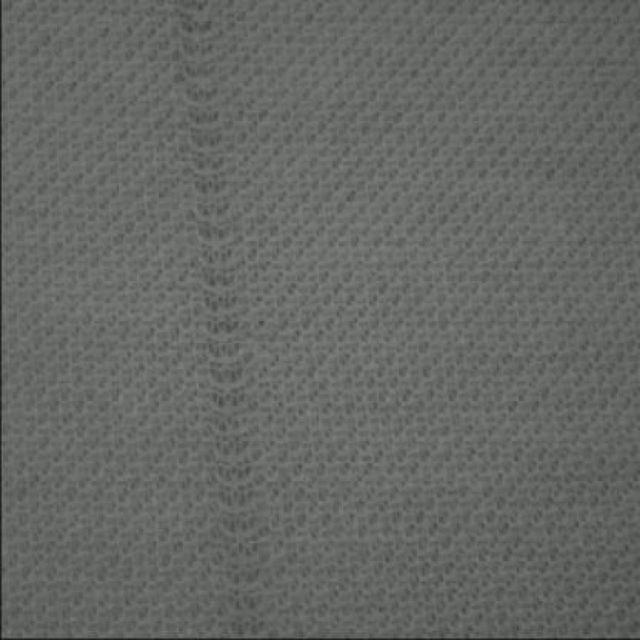Line: (176, 0, 275, 640)
